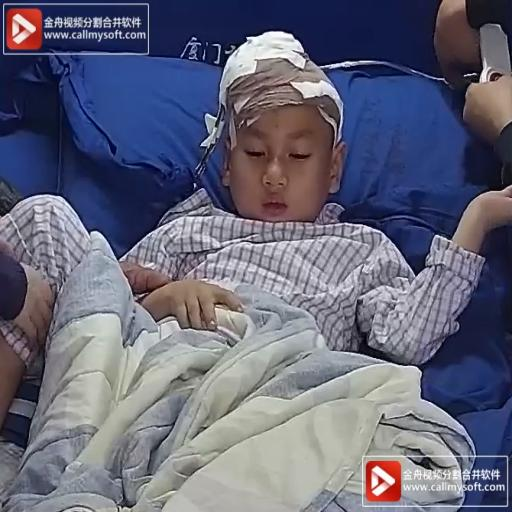Seizure: (211, 44, 349, 225)
